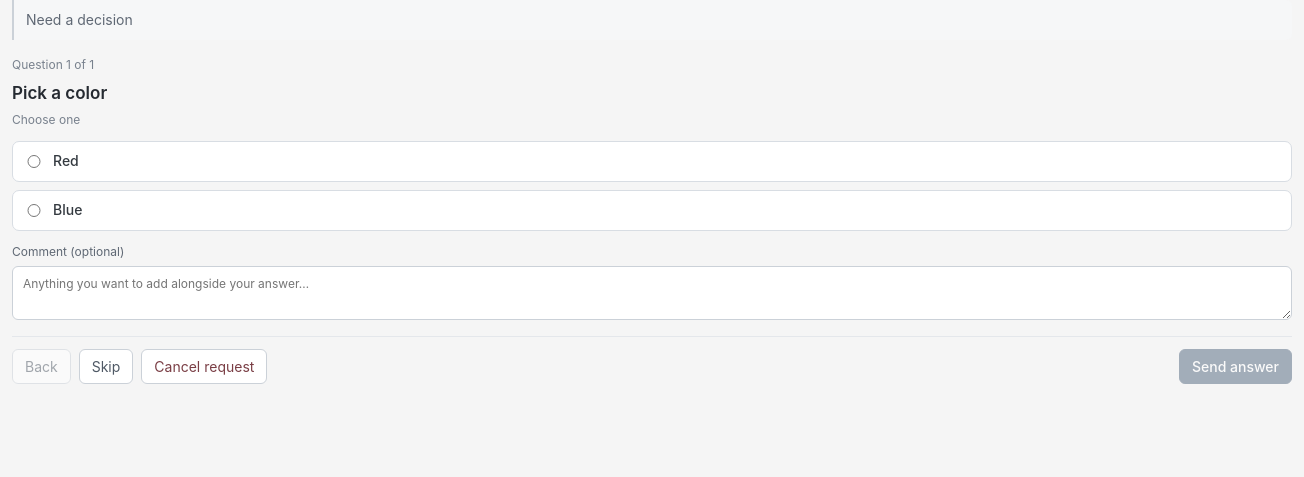
Scenario: QuestionRich — Cancel (explicit pending-question cancellation) › after Cancel is acked, shows a waiting-for-confirmation state and disables the form — only the server ack/resolution is canonical
This screenshot has width=1304, height=477.
Click the radio button labelled "Red".
click(34, 162)  # box [25,155,43,168]
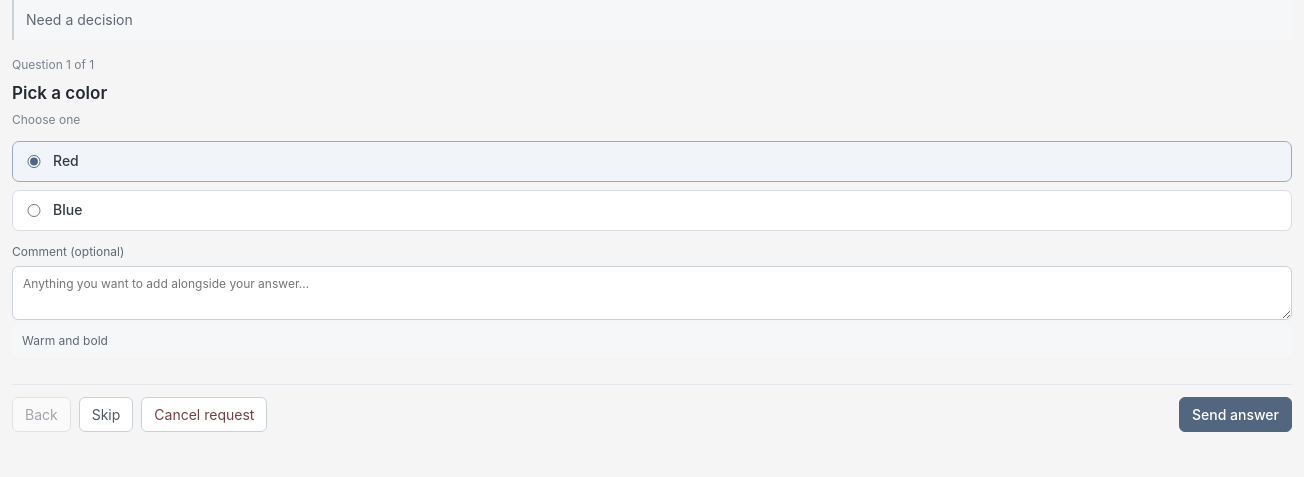
Click the button with test id "question-cancel".
click(204, 414)  # box [141,397,267,432]
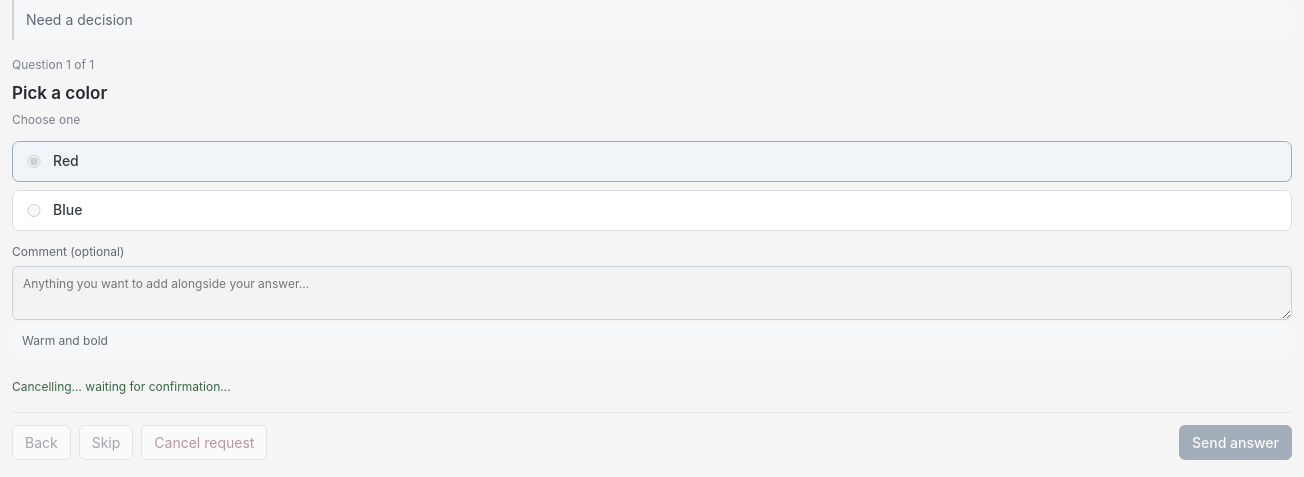
Check: the text with test id "question-cancel-pending" reads "Cancelling… waiting for confirmation…", box [12,379,231,394]
Check: the radio button labelled "Red" is disabled, box [25,155,43,168]
Check: the button with test id "question-cancel" is disabled, box [141,425,267,460]
